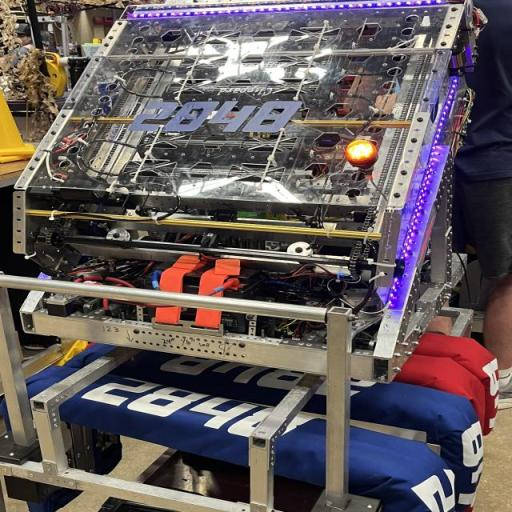robot: (0, 0, 472, 385)
